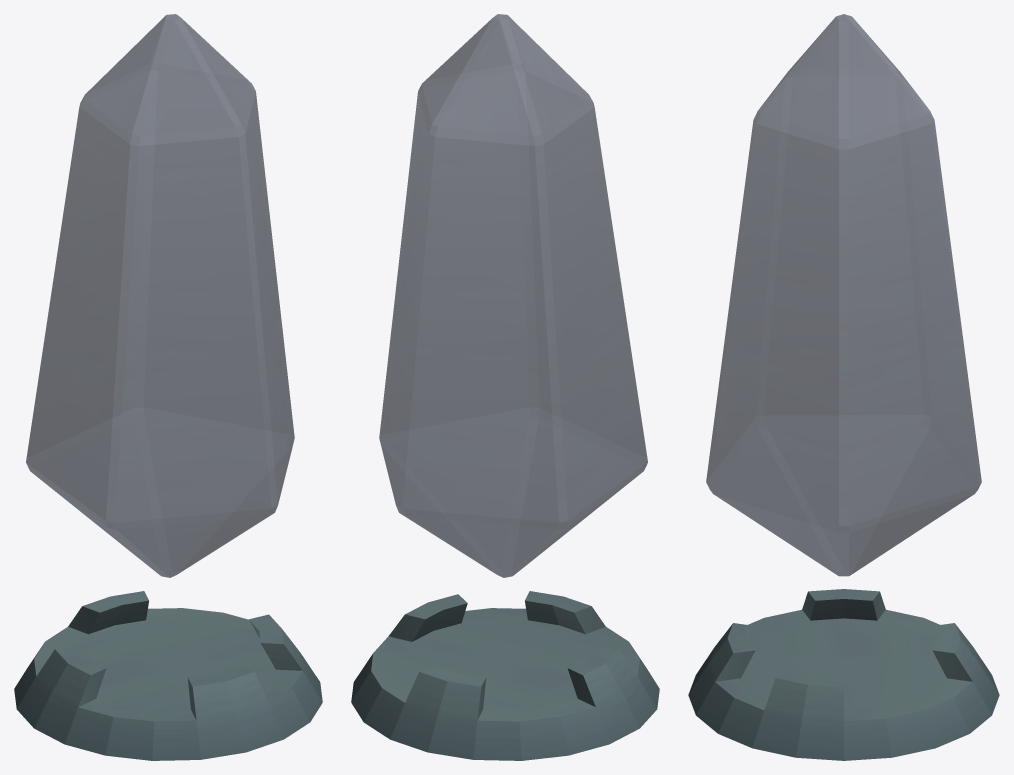
The model's file is OBJ_BlackIceGem.fbx.
3 views of the same model, side by side, from view 1: azimuth 30°, elevation 25°; view 2: azimuth 150°, elevation 25°; view 3: azimuth 270°, elevation 25° (orthographic).
Parts seen in each view (by area): view 1: OBJ_IceGem, OBJ_Base; view 2: OBJ_IceGem, OBJ_Base; view 3: OBJ_IceGem, OBJ_Base.
Boxes of the visible parts, <box> form: OBJ_IceGem: <box>26,14,294,577</box>; OBJ_Base: <box>14,591,322,760</box>; OBJ_IceGem: <box>379,14,647,577</box>; OBJ_Base: <box>351,591,659,760</box>; OBJ_IceGem: <box>706,14,981,576</box>; OBJ_Base: <box>688,589,999,760</box>.
Bounding box in the file's own units: 44.7 × 108 × 44.7.
